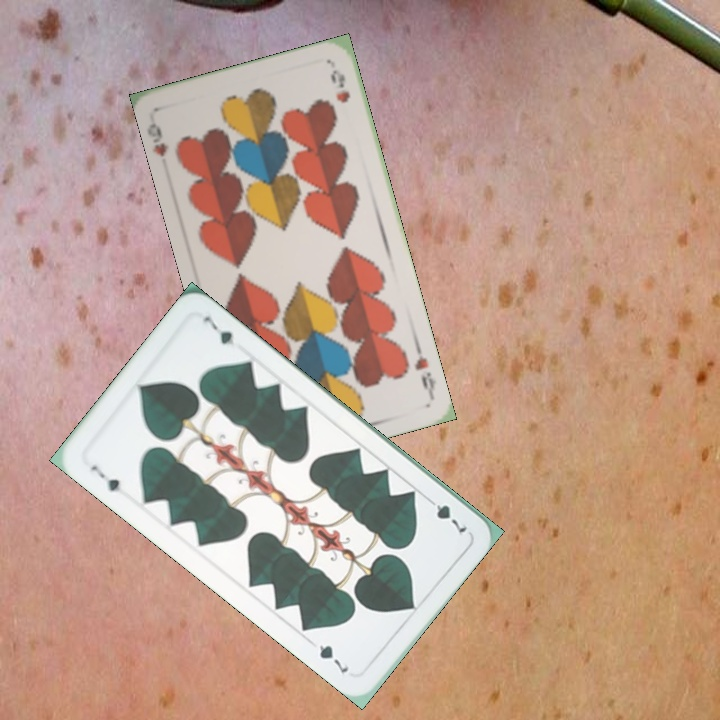G7: (421, 493, 470, 536), (86, 461, 124, 495)
H9: (410, 341, 438, 399), (145, 119, 172, 159)
